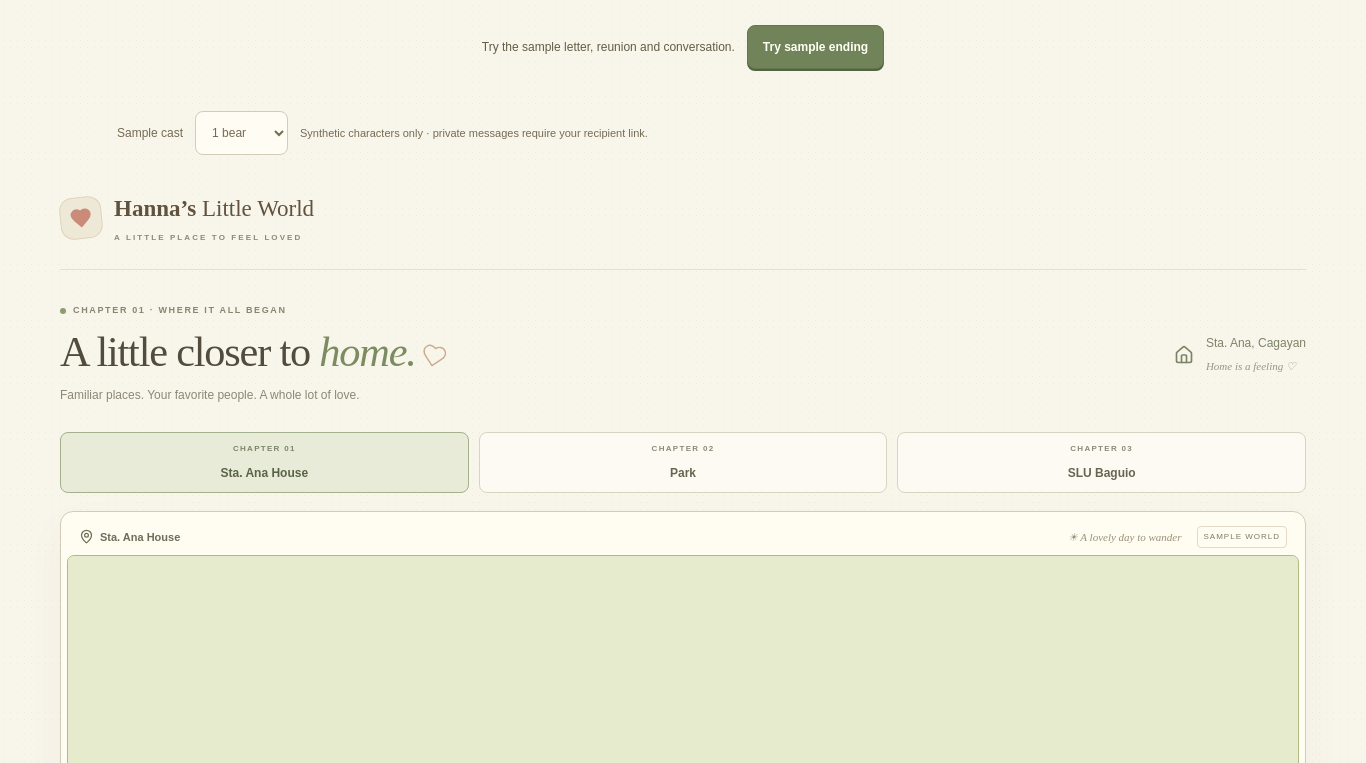
Scenario: M4 navigation and protected scene loading › visits all sample maps with 50 bears without fetching private data
This screenshot has width=1366, height=763.
Select "50 bears" in the dropdown named "Sample bear count": {"x": 242, "y": 133} [195, 111, 288, 155]
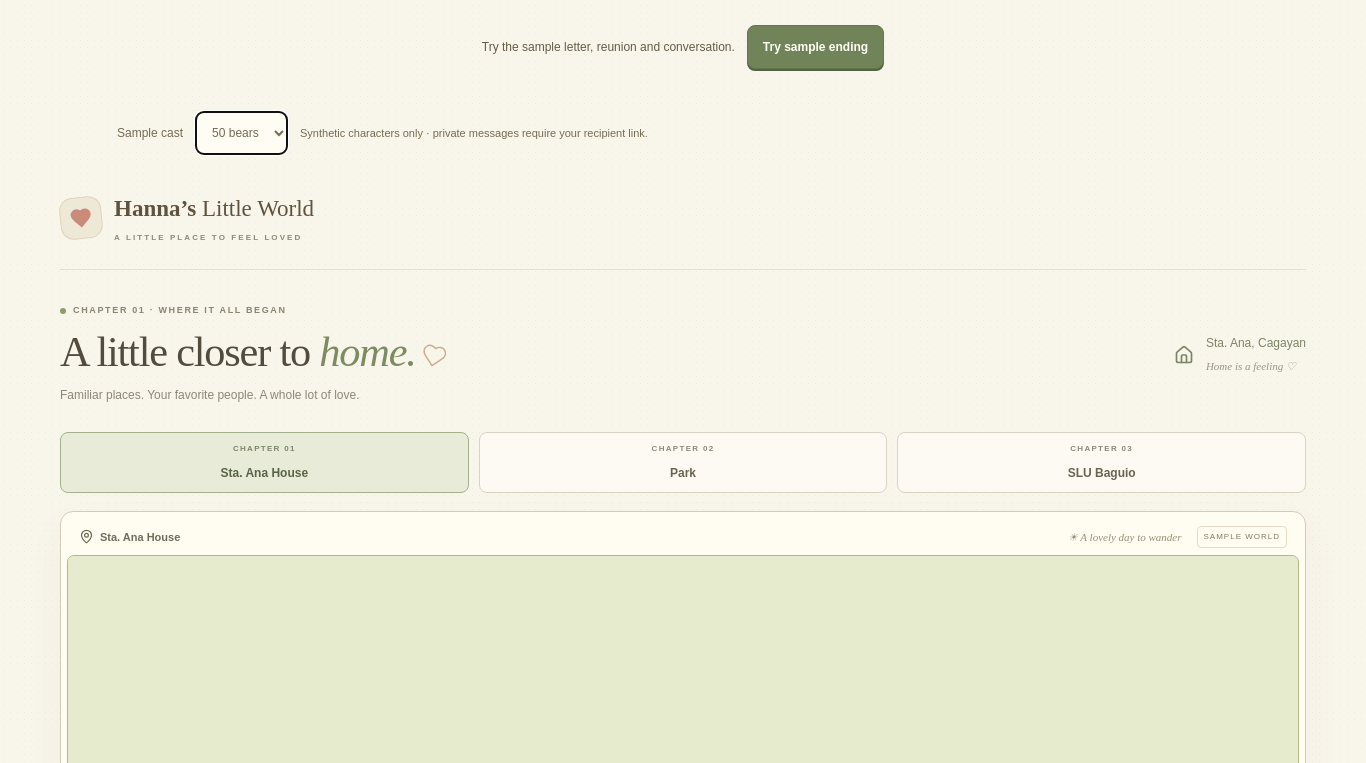
Click the button with aria-label "Visit Park": {"x": 677, "y": 449} [479, 432, 887, 493]
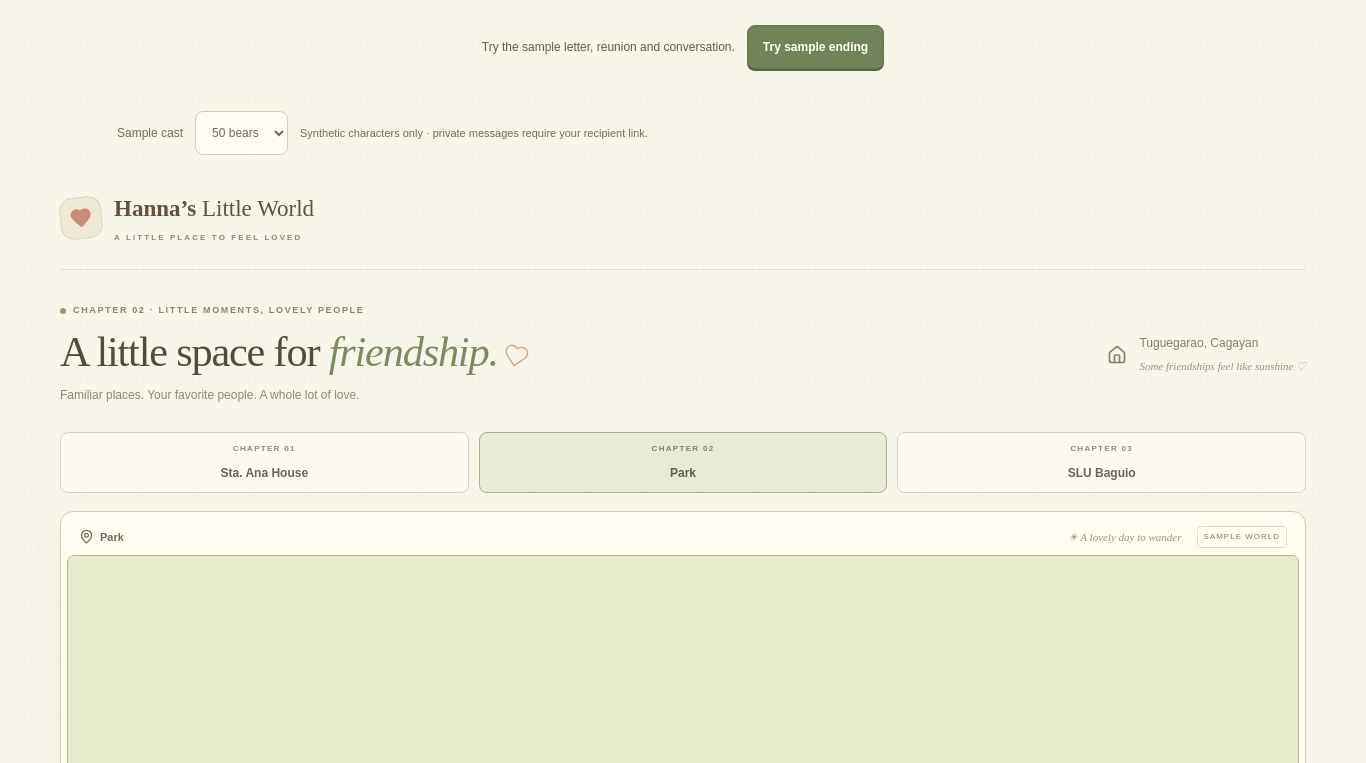
Click the button with aria-label "Visit SLU Baguio": {"x": 1096, "y": 449} [897, 432, 1306, 493]
(page scrolled)
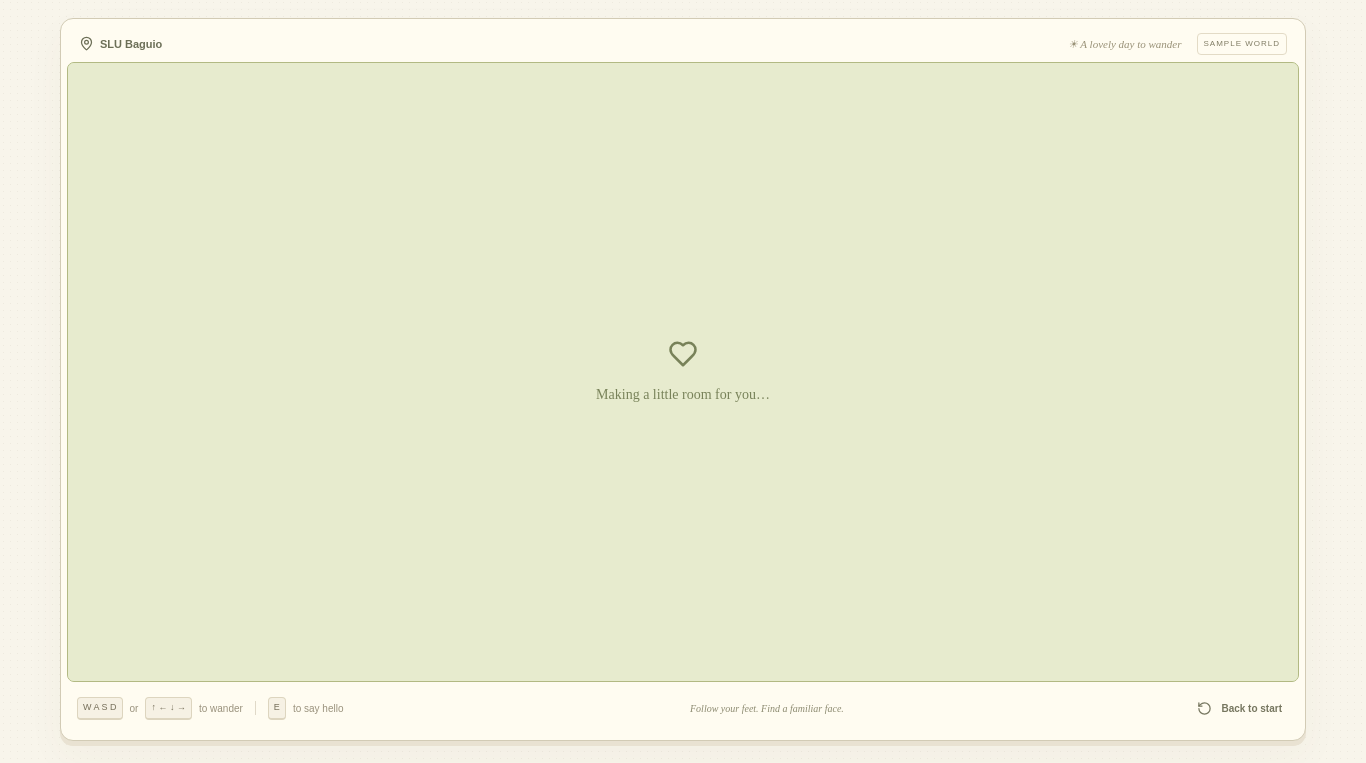
Expected: the element named "Explore SLU Baguio" is shown
